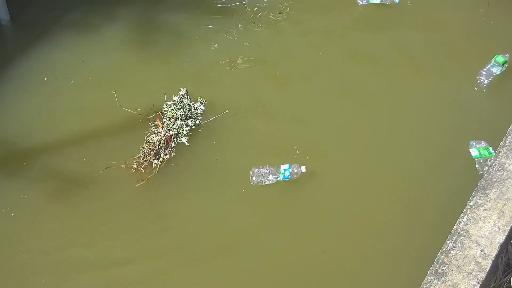plastic: (249, 162, 311, 190), (470, 52, 511, 90), (464, 136, 496, 177), (357, 0, 402, 10)
twig: (116, 69, 223, 185)
